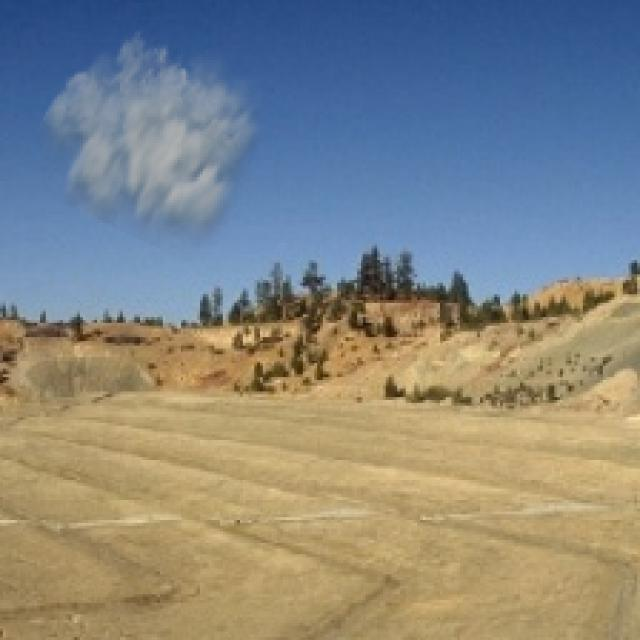smoke: (32, 28, 268, 266)
